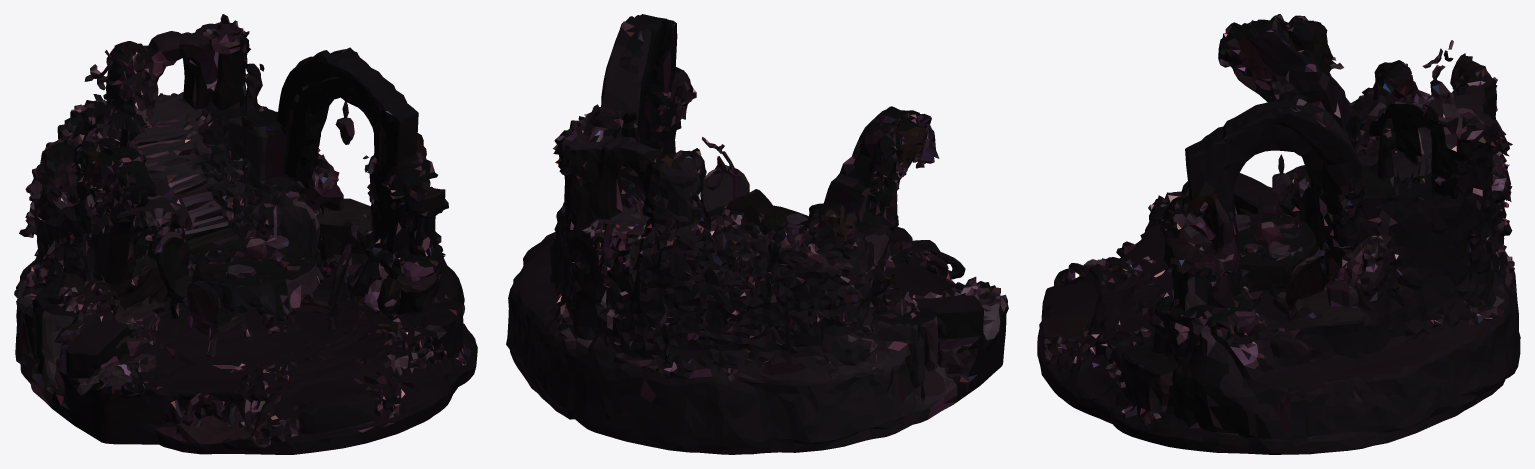
The model's file is mesa-cha-10.glb.
3 views of the same model, side by side, from view 1: azimuth 30°, elevation 25°; view 2: azimuth 150°, elevation 25°; view 3: azimuth 270°, elevation 25° (orthographic). The views are drawn at different scales.
Visible parts, largest first — view 1: SM_Mesa_Cha_10; view 2: SM_Mesa_Cha_10; view 3: SM_Mesa_Cha_10.
Part boxes in pixels (left/top/right/bottom): SM_Mesa_Cha_10: left=14, top=14, right=477, bottom=454; SM_Mesa_Cha_10: left=506, top=14, right=1008, bottom=454; SM_Mesa_Cha_10: left=1037, top=14, right=1520, bottom=454.
Size of the model in its own units: 5.76 by 4 by 5.76.
Materials: 1 (1 with a texture image).
